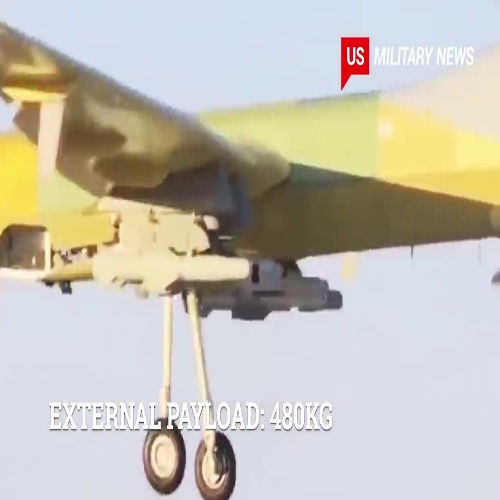uav: (2, 25, 499, 500)
